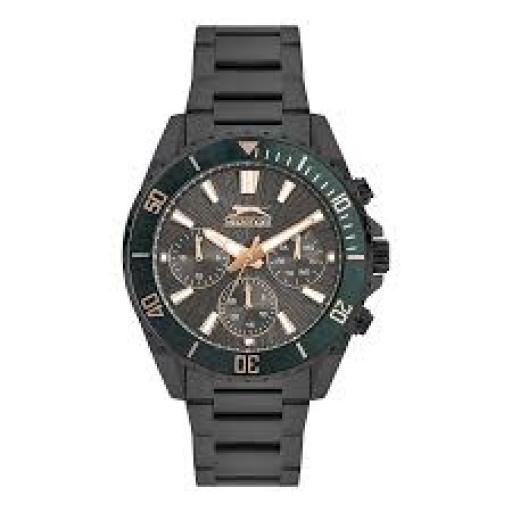KolSaati: (104, 10, 414, 498)
